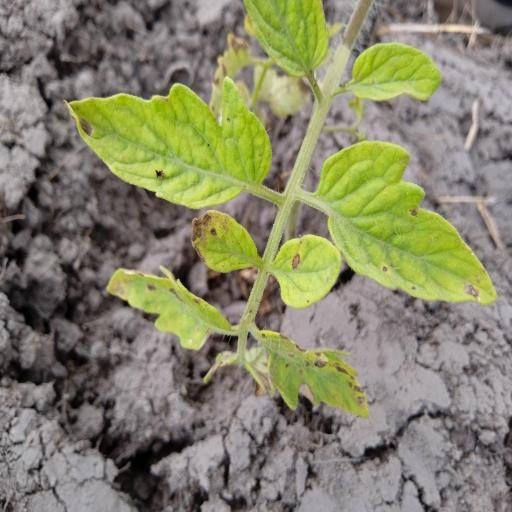Tomato_Brown_Spots: (314, 135, 497, 309), (62, 79, 273, 213), (101, 265, 233, 352), (259, 320, 367, 423), (242, 0, 330, 82), (345, 40, 444, 104), (270, 232, 339, 309), (186, 206, 261, 274)
